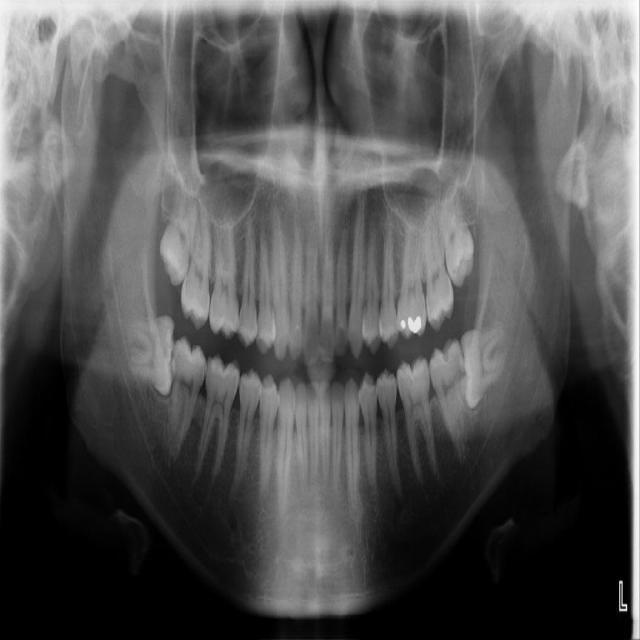Filling: (212, 356, 238, 380), (211, 311, 239, 333), (402, 358, 426, 382), (178, 341, 202, 365), (400, 314, 425, 336), (436, 341, 458, 365)
impacted tooth: (121, 317, 174, 392), (462, 329, 511, 407), (441, 185, 477, 287), (161, 193, 199, 283)
